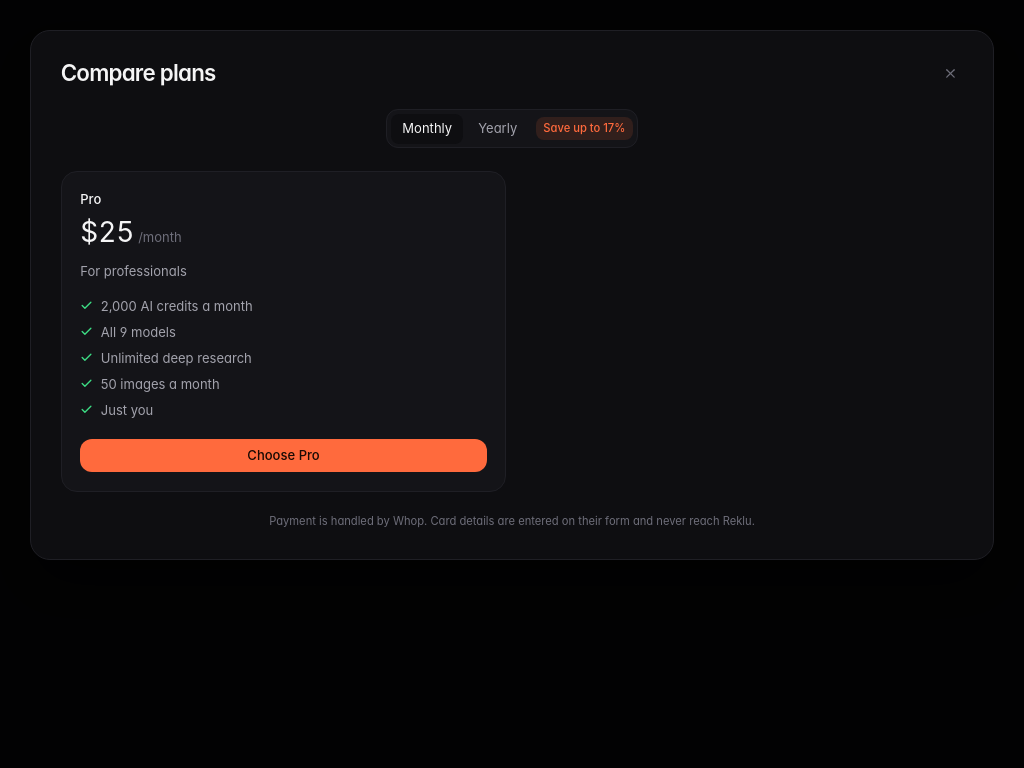
Test: checkout › does not navigate away to do it
This screenshot has width=1024, height=768.
Click the button "Choose Pro" at coordinates (284, 455), box [80,439,487,472]
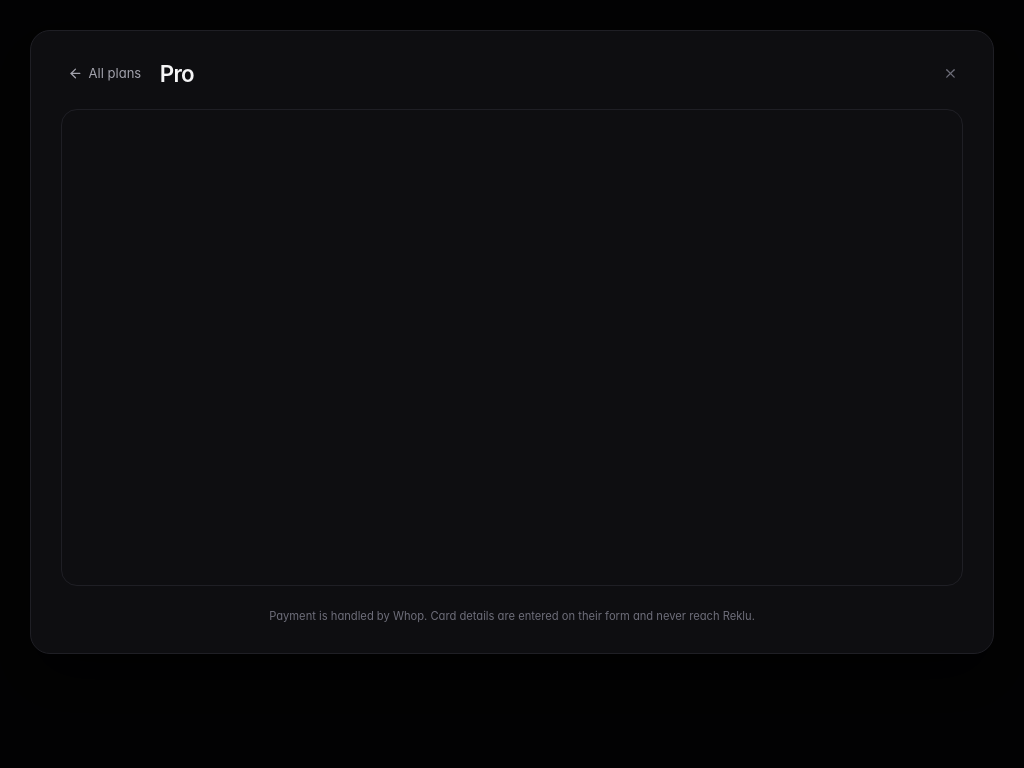
Now the button "Choose Pro" is gone
